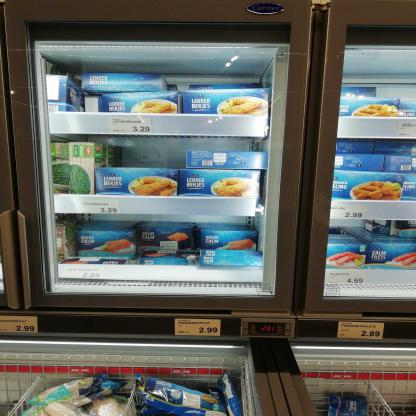prtg: (175, 319, 222, 337), (338, 322, 385, 340), (109, 119, 153, 135), (1, 317, 39, 334), (78, 200, 122, 214), (328, 270, 368, 285), (331, 205, 368, 220), (397, 122, 416, 139)
